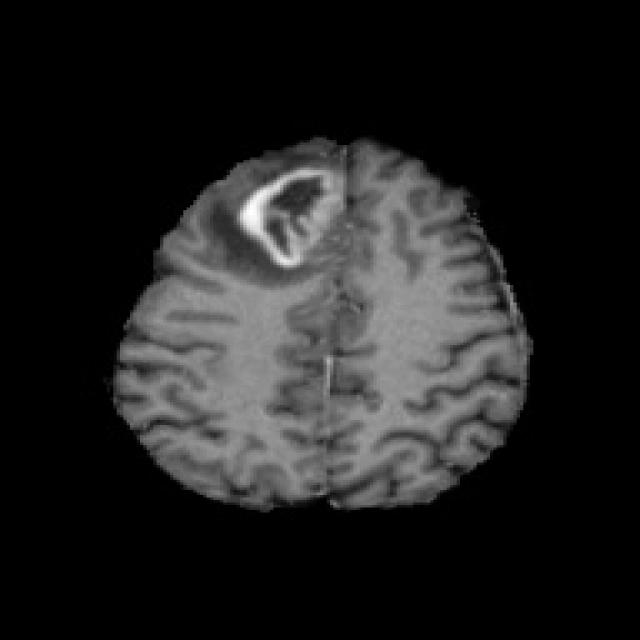positive: (238, 167, 338, 265)
